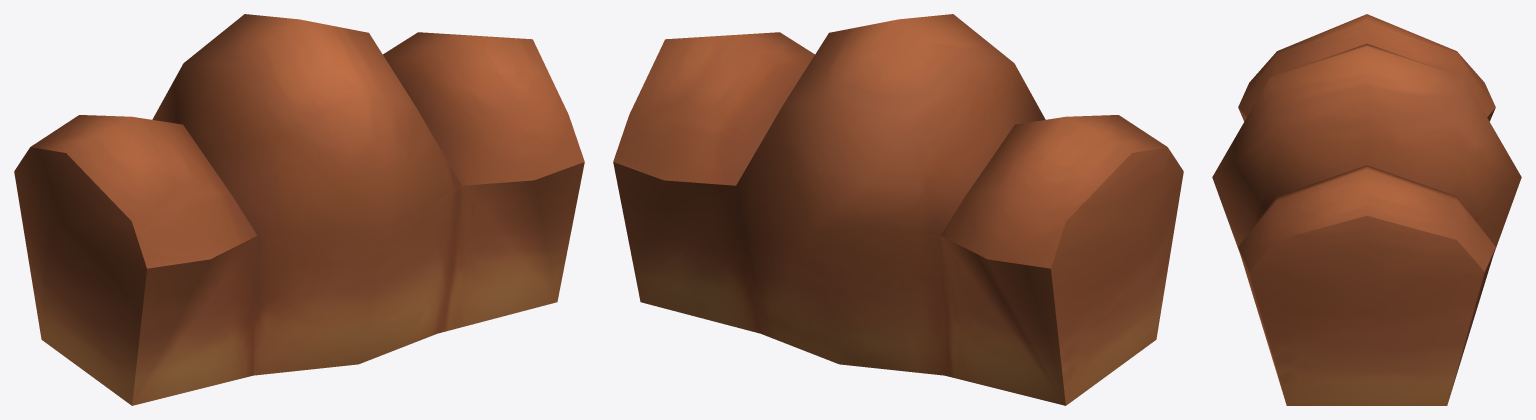
File: bread.FBX
3 views of the same model, side by side, from view 1: azimuth 30°, elevation 25°; view 2: azimuth 150°, elevation 25°; view 3: azimuth 270°, elevation 25° (orthographic). The views are drawn at different scales.
Visible parts, largest first — view 1: bread; view 2: bread; view 3: bread.
Boxes of the visible parts, box(x1,y1,x2,y2) form: bread: box(14, 14, 584, 405); bread: box(613, 14, 1183, 405); bread: box(1212, 14, 1521, 405).
Bounding box in the file's own units: 9.56 × 5.54 × 5.81.
